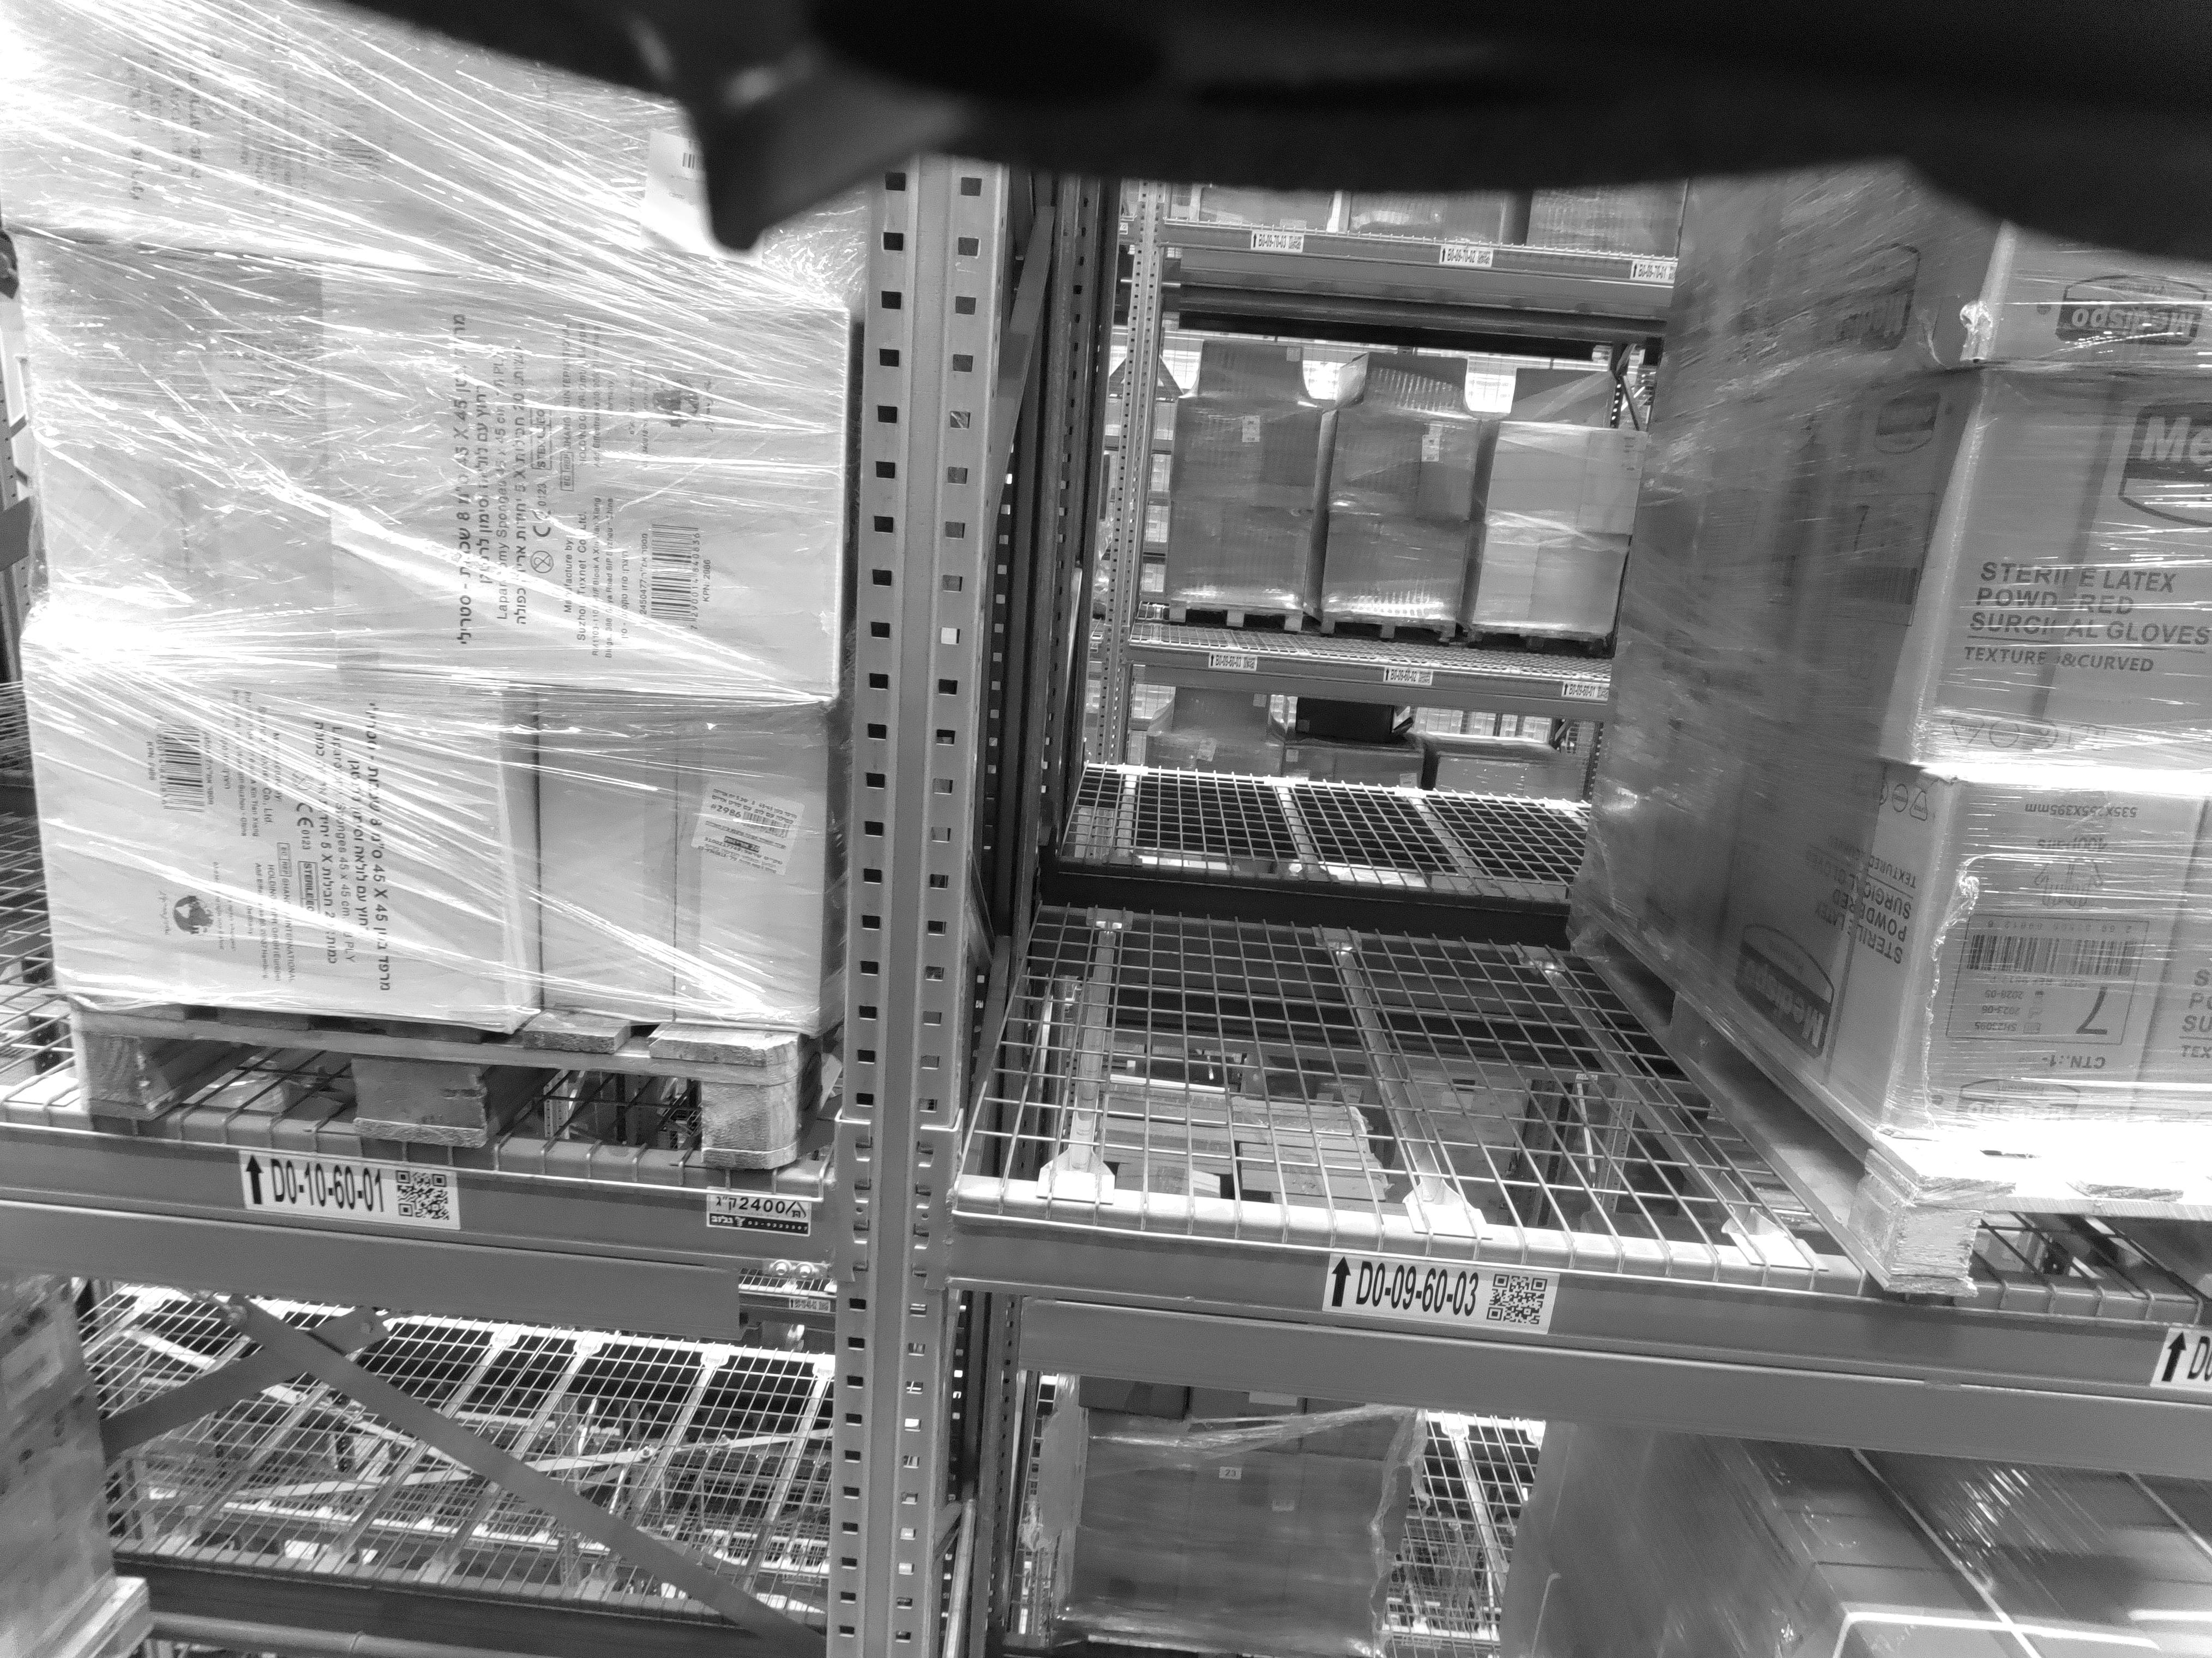empty-shelf: (1181, 179, 1609, 1219)
